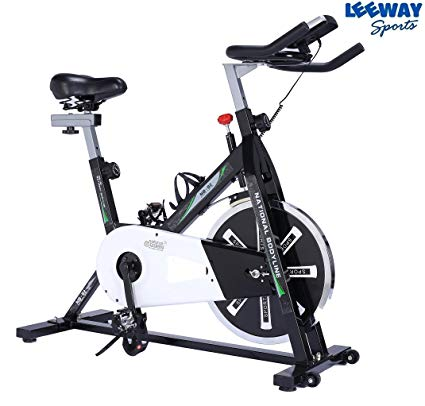gym_bike: (9, 21, 377, 383)
